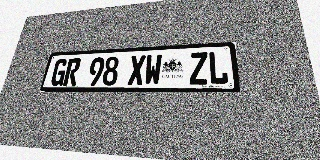8: (101, 56, 120, 85)
9: (87, 57, 106, 86)
G: (50, 59, 69, 86)
L: (208, 51, 229, 85)
R: (63, 58, 82, 86)
W: (144, 54, 162, 85)
X: (127, 55, 146, 85)
Z: (190, 52, 208, 85)
